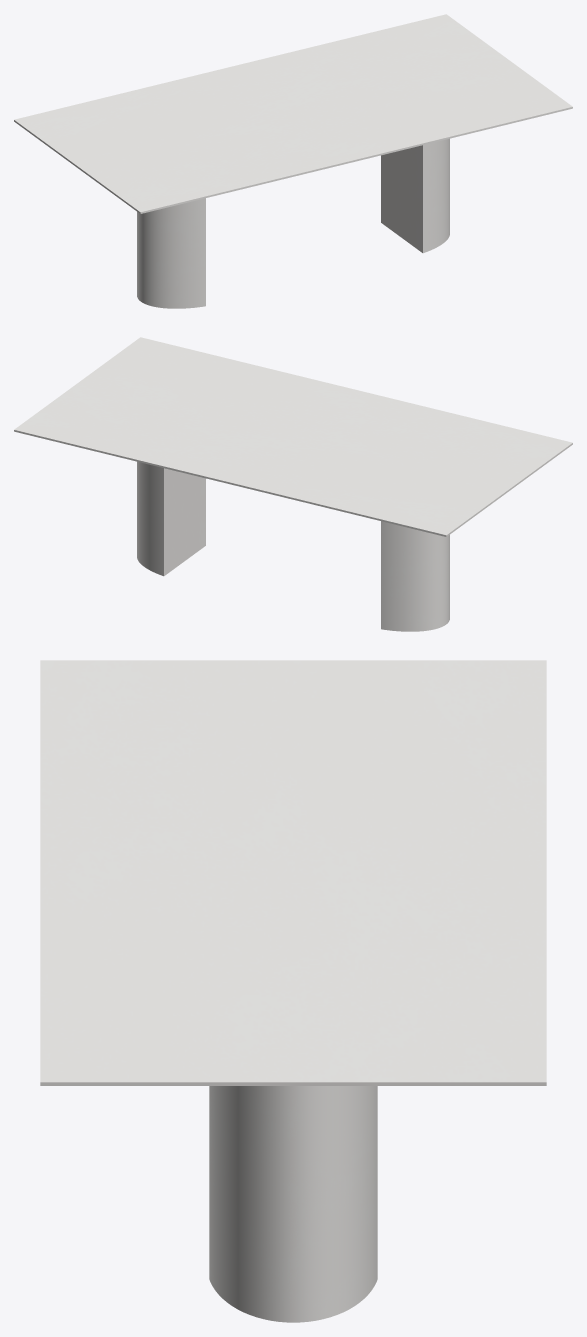
The model's file is purewhite_recta_facet_hillside.glb.
3 views of the same model, one above another, from view 1: azimuth 30°, elevation 25°; view 2: azimuth 150°, elevation 25°; view 3: azimuth 270°, elevation 25° (orthographic). The views are drawn at different scales.
Parts seen in each view (by area): view 1: facet_recta, hillside; view 2: facet_recta, hillside; view 3: facet_recta, hillside.
Part boxes in pixels (x1,y1,x2,y2): facet_recta: (14,14,572,213); hillside: (137,138,449,308); facet_recta: (14,337,572,536); hillside: (137,461,449,631); facet_recta: (40,660,546,1085); hillside: (209,1086,377,1322).
Size of the model in its own units: 7.5 by 2.51 by 3.8.
Materials: 1 (1 with a texture image).
